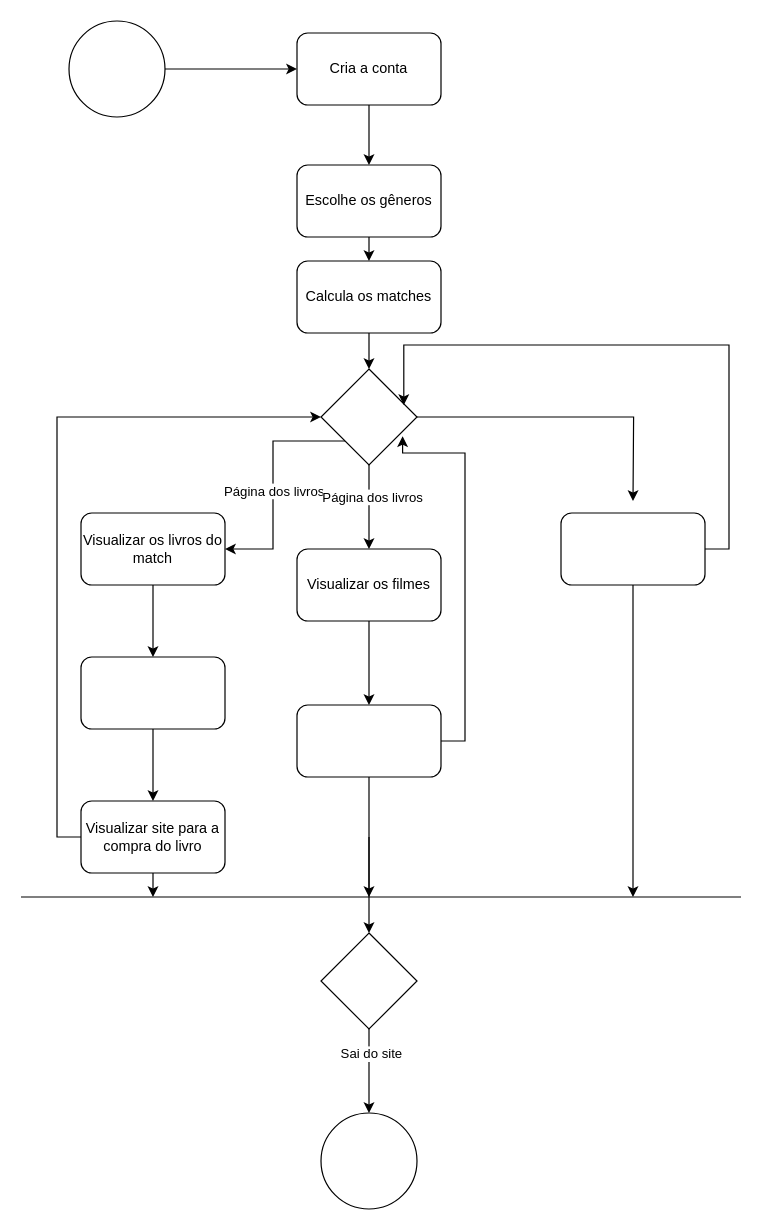
Image size: 763x1230. Some labels were removed from this diagram. Here are the shapes that lost their labels. From the top down, the centre of each, then its label:
[632,548]: Chat de pessoas com o match
[152,692]: Escolher o livro
[368,740]: Visualizar a sinopse do filme
